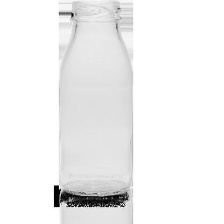bottle: (56, 0, 142, 198)
